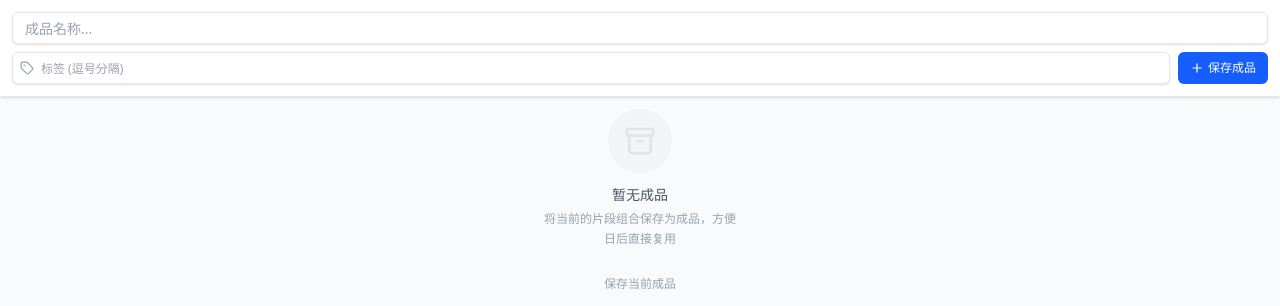
Test: SavedPromptsPanel › allows saving a prompt
In the field with placeholder "成品名称...": [640, 28] box [12,12,1268,44], type "My Prompt"
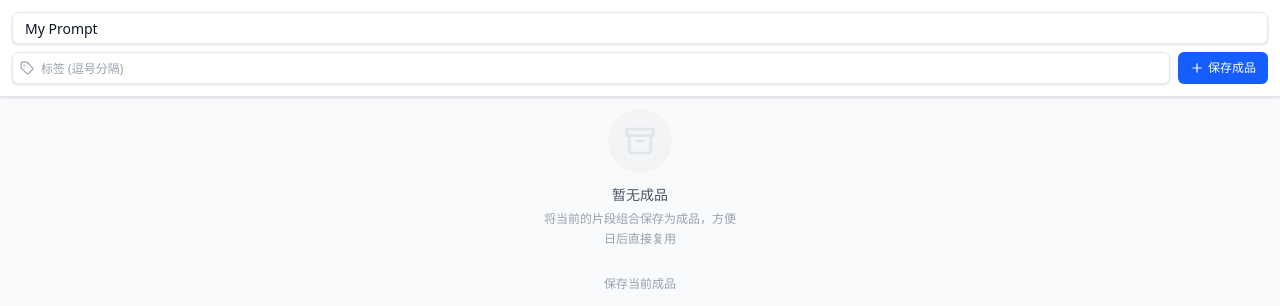
In the field with placeholder "标签 (逗号分隔)": [591, 68] box [12,52,1170,84], type "tag1, tag2"
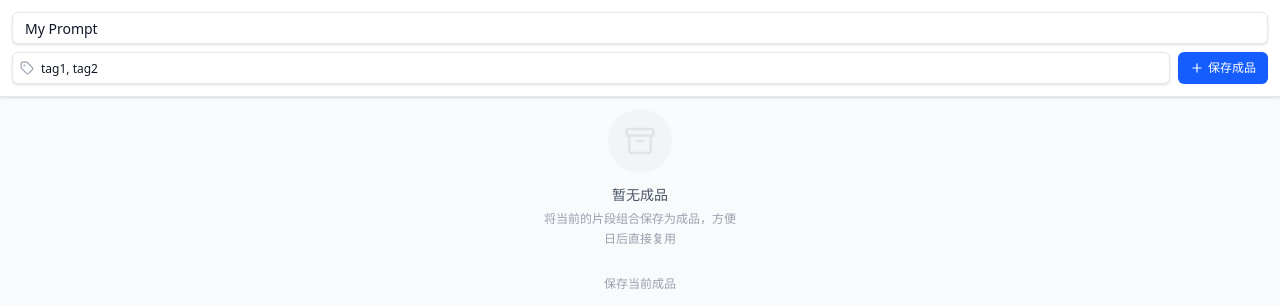
Click the button with test id "saved-prompts-save": [1223, 68] box [1178,52,1268,84]
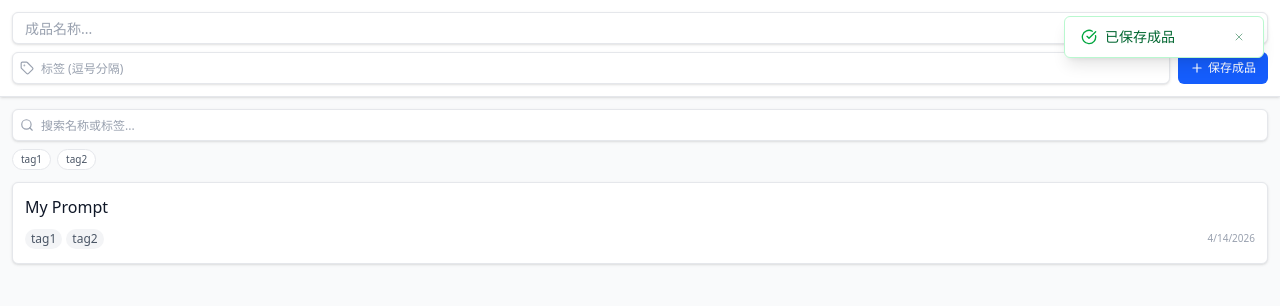
Now the button "My Prompt" is shown, box [25,195,1167,219]
Now the button "tag1" is shown, box [12,149,51,170]
Now the button "tag2" is shown, box [57,149,96,170]
